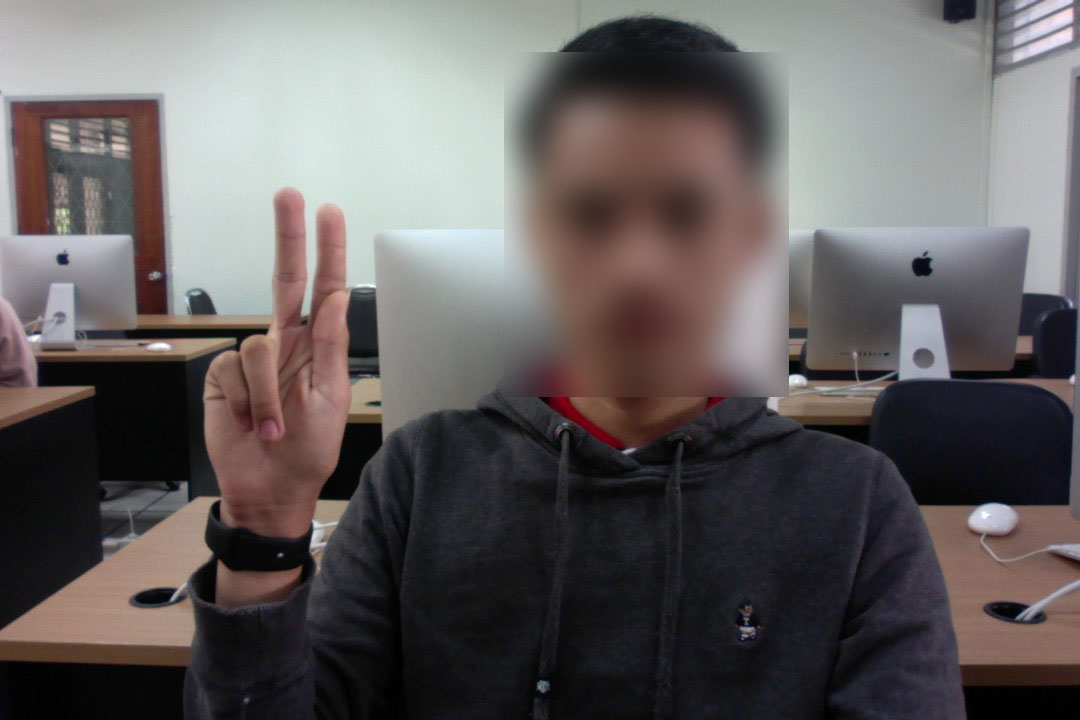ko: (195, 175, 374, 534)
